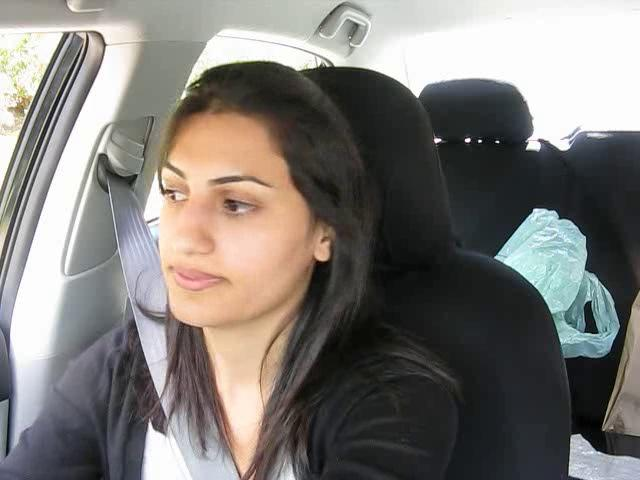no_yawn: (158, 258, 240, 300)
open_eyeL: (155, 177, 194, 210)
open_eyeR: (212, 187, 272, 224)
